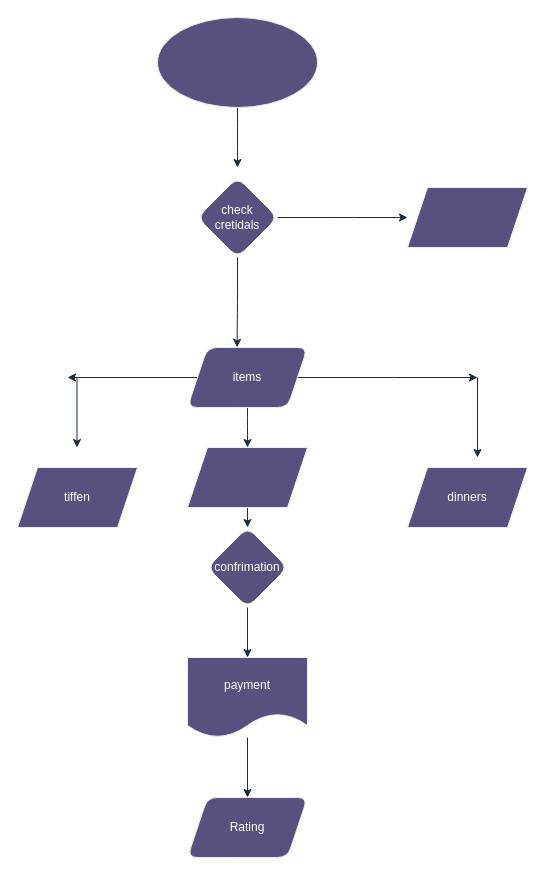
Image size: 545x875. Some labels were removed from this diagram. The shapes that lost their labels are listed below. From the top down, each one's centre as x and y in pixels, then its label:
point (237, 62): Login
point (467, 217): wrong user input
point (247, 477): lunch
